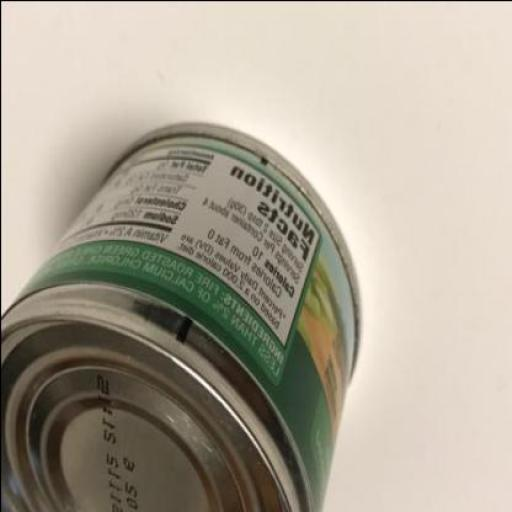metal: (1, 122, 362, 511)
